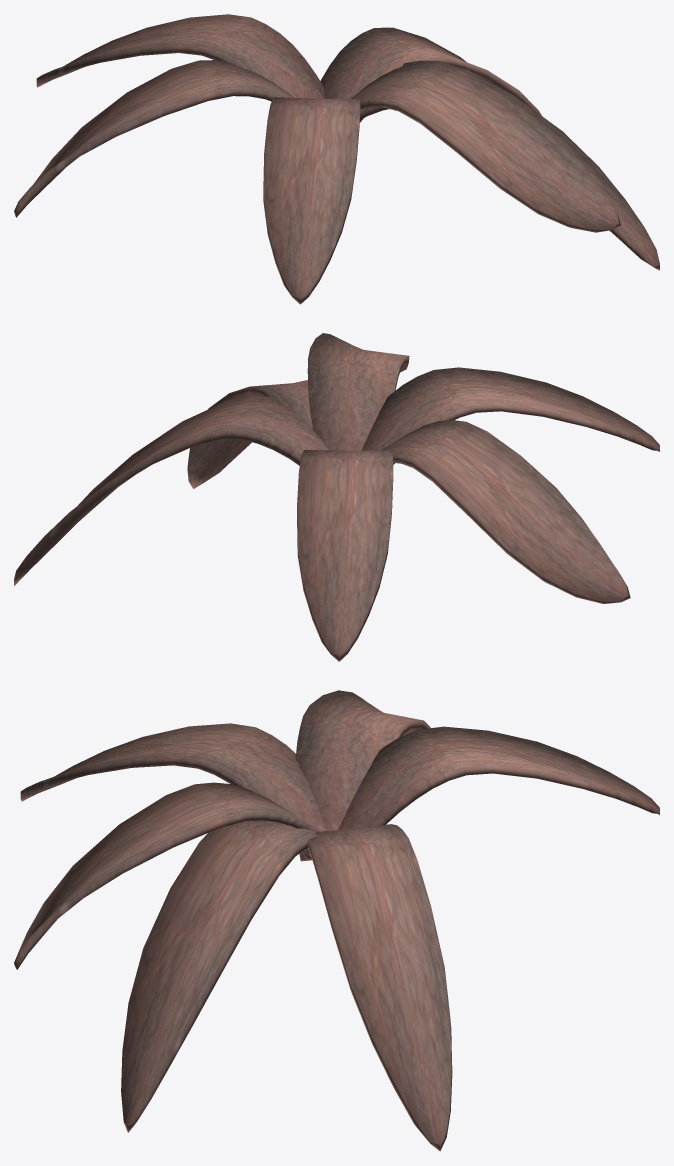
File: calyx9_sb2_b.dae
3 views of the same model, one above another, from view 1: azimuth 30°, elevation 25°; view 2: azimuth 150°, elevation 25°; view 3: azimuth 270°, elevation 25° (orthographic). The views are drawn at different scales.
Parts seen in each view (by area): view 1: calyx8_001, calyx6_001, calyx6_002, calyx8_002, calyx9, calyx9_001; view 2: calyx8_002, calyx6_002, calyx6_001, calyx9, calyx8_001, calyx9_001; view 3: calyx9, calyx9_001, calyx6_002, calyx8_001, calyx6_001, calyx8_002.
Boxes of the visible parts, <box> form: calyx8_001: <box>351,62,620,232</box>; calyx6_001: <box>263,97,360,304</box>; calyx6_002: <box>36,14,324,101</box>; calyx8_002: <box>14,60,293,217</box>; calyx9: <box>320,27,541,122</box>; calyx9_001: <box>360,60,659,270</box>; calyx8_002: <box>381,420,630,603</box>; calyx6_002: <box>297,450,393,661</box>; calyx6_001: <box>361,367,659,464</box>; calyx9: <box>14,395,328,585</box>; calyx8_001: <box>307,333,409,450</box>; calyx9_001: <box>187,380,312,488</box>; calyx9: <box>299,824,452,1151</box>; calyx9_001: <box>121,820,317,1132</box>; calyx6_002: <box>338,726,659,830</box>; calyx8_001: <box>14,782,319,969</box>; calyx6_001: <box>20,723,326,859</box>; calyx8_002: <box>295,690,430,830</box>.
Size of the model in its own units: 0.1304 by 0.1157 by 0.0455.
Materials: 6 (6 with a texture image).
